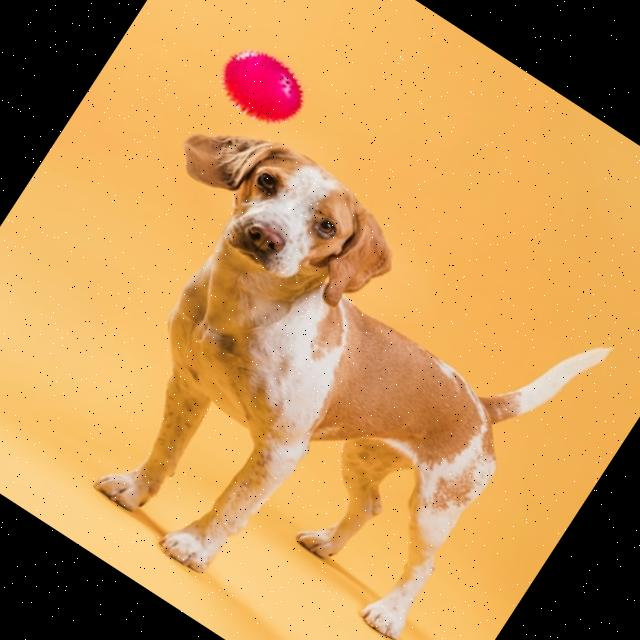Dog: (0, 89, 618, 640)
